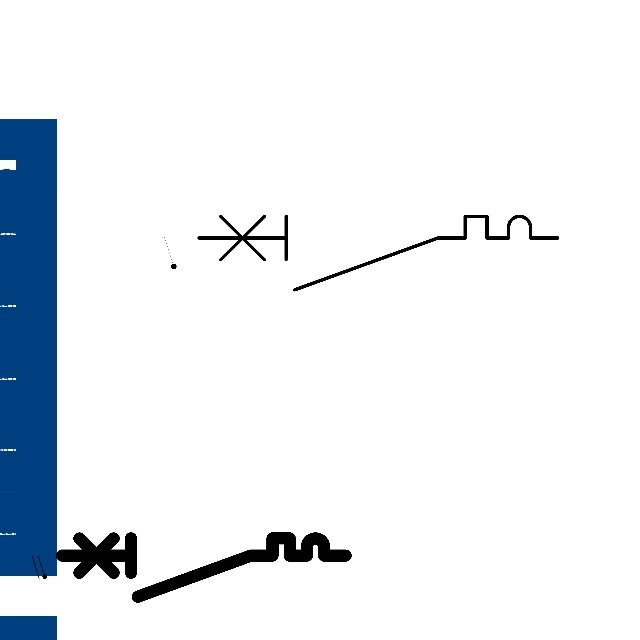interruptor_termomagnetico: (189, 207, 566, 299), (54, 531, 353, 604)
